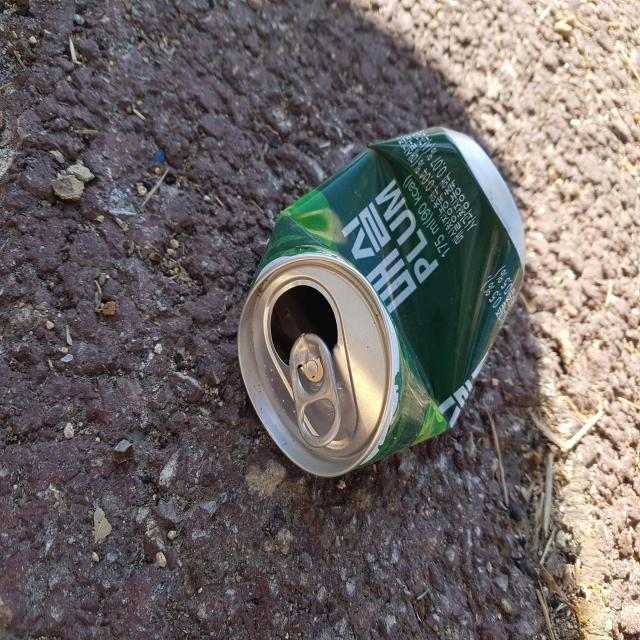can: (238, 127, 526, 477)
